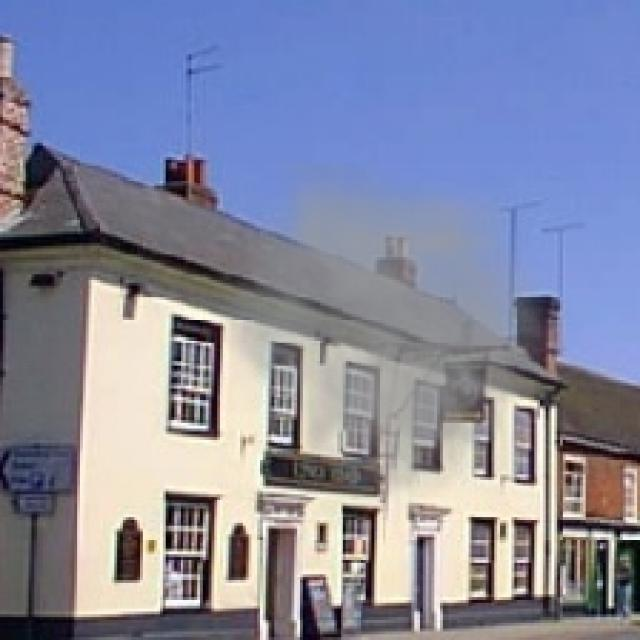Smoke: (202, 162, 578, 534)
